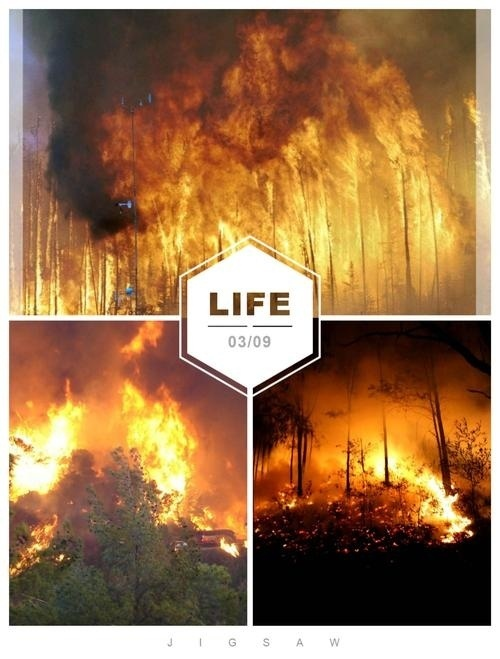fire: (73, 17, 472, 301), (120, 374, 199, 530), (365, 438, 474, 542), (7, 389, 85, 500)
